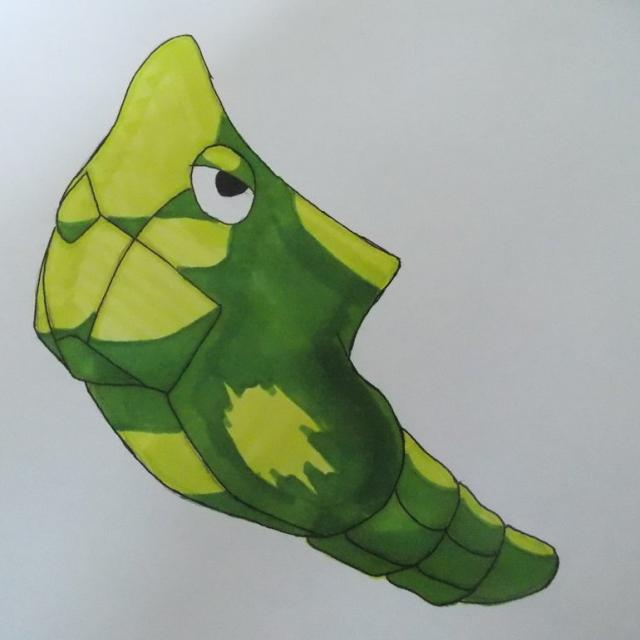Metapod: (30, 44, 562, 613)
